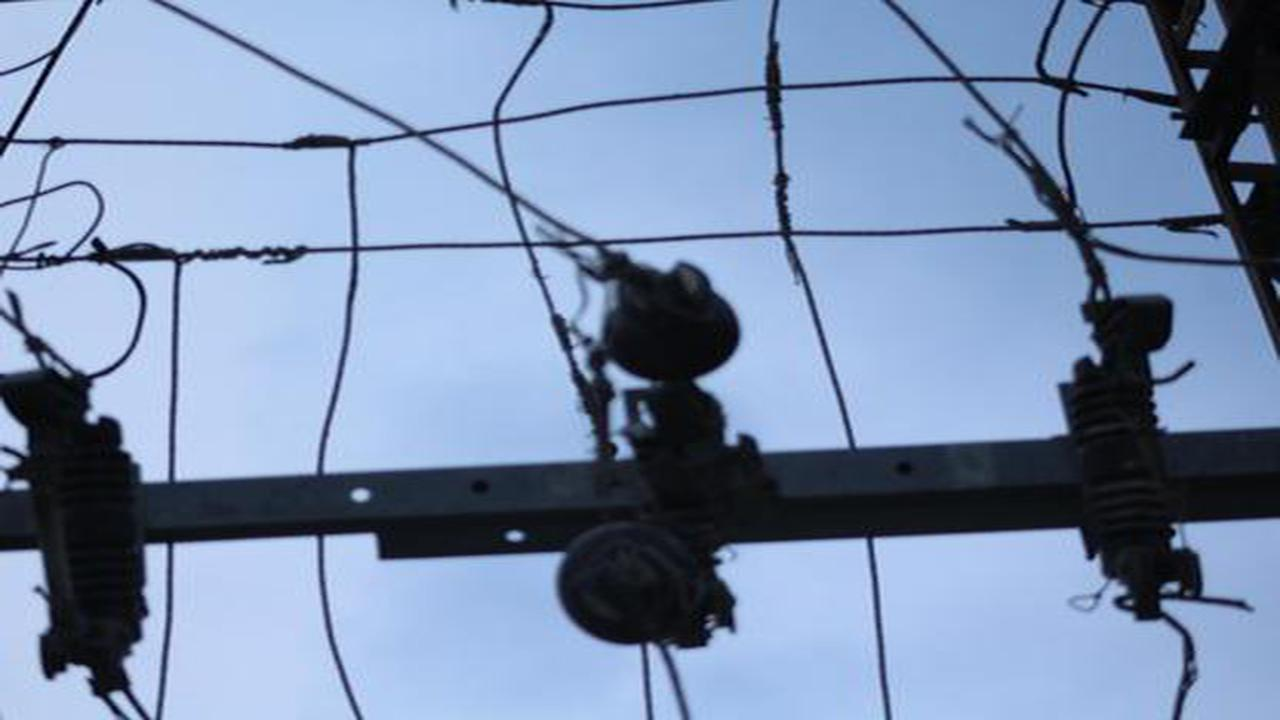insulator_pin: (552, 511, 724, 650), (589, 244, 746, 387)
